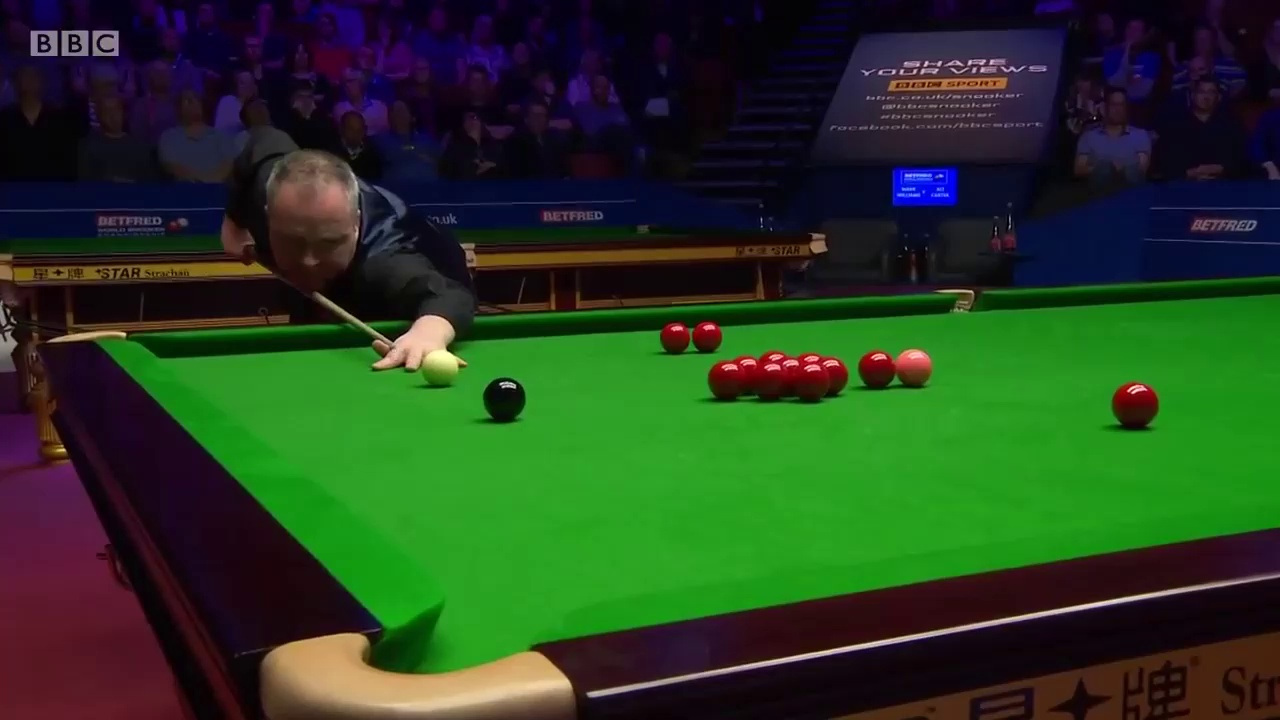black: (483, 375, 526, 421)
pink: (899, 348, 929, 386)
red: (1112, 383, 1159, 428), (708, 364, 748, 399), (860, 350, 895, 385), (798, 365, 830, 401), (754, 362, 787, 396), (660, 323, 690, 354), (691, 321, 720, 352)
white: (425, 350, 457, 385)
